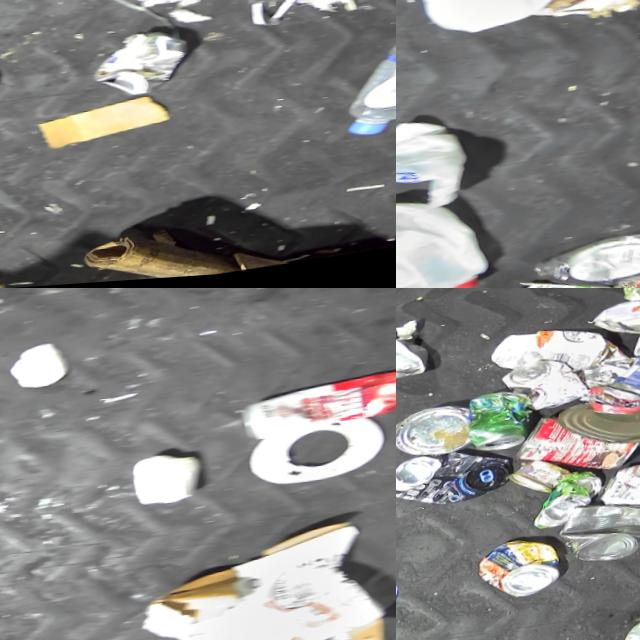can: (239, 368, 396, 447), (516, 406, 640, 488), (89, 25, 203, 106), (396, 445, 518, 516), (480, 538, 572, 608), (500, 359, 597, 421), (560, 498, 640, 573), (559, 395, 640, 459), (396, 404, 478, 466), (467, 393, 541, 460), (536, 474, 612, 536), (607, 331, 640, 421), (512, 460, 578, 504), (601, 461, 640, 526), (591, 299, 640, 346), (396, 331, 433, 388)
milk_jug: (396, 189, 508, 288), (396, 113, 482, 221), (410, 0, 594, 45)
plastic_bottle: (338, 37, 396, 147)
